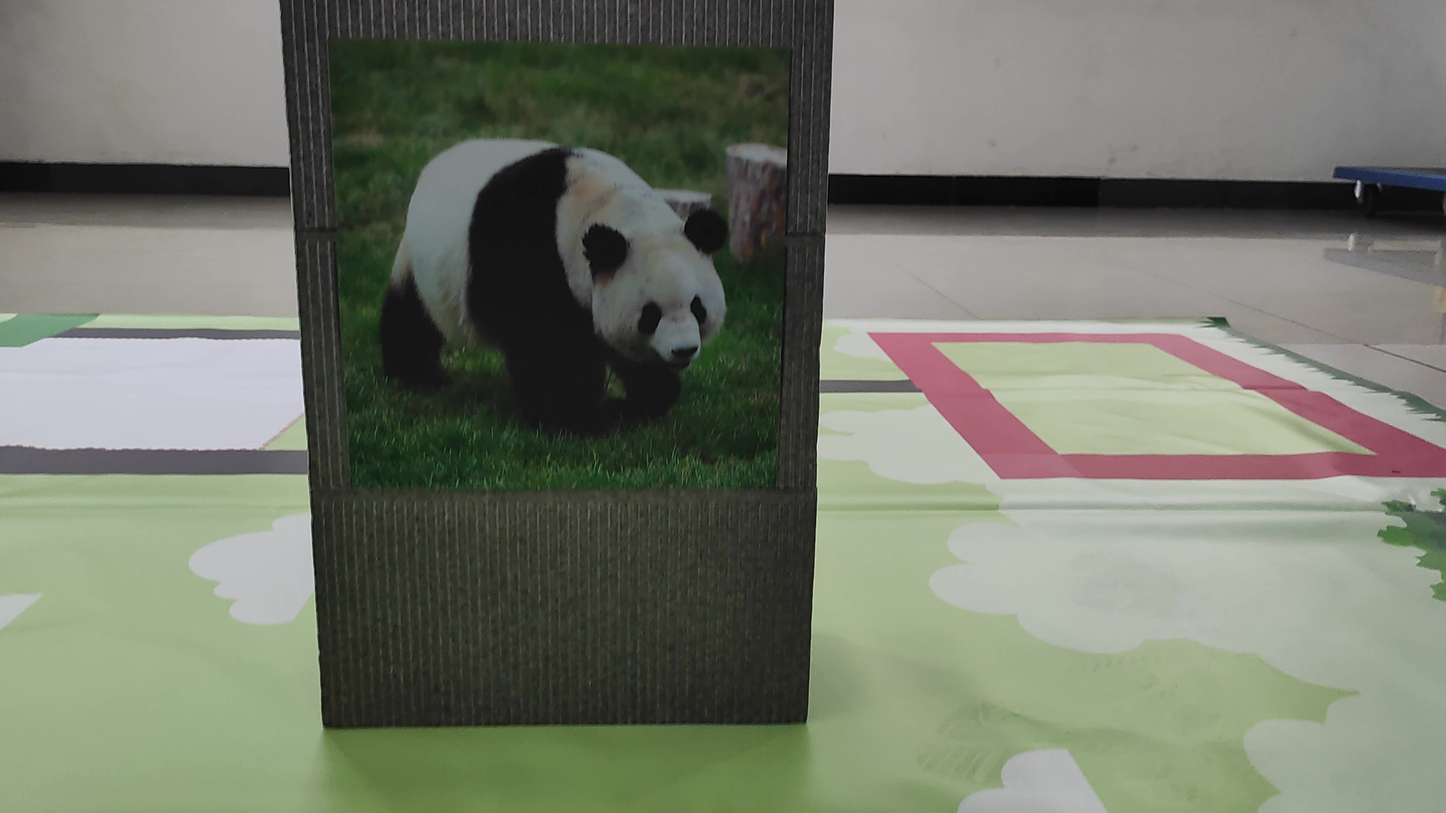panda: (360, 95, 725, 426)
